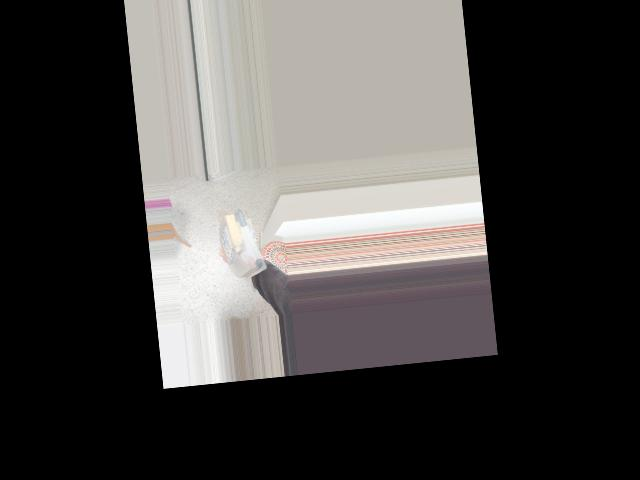cheese: (216, 204, 272, 279)
